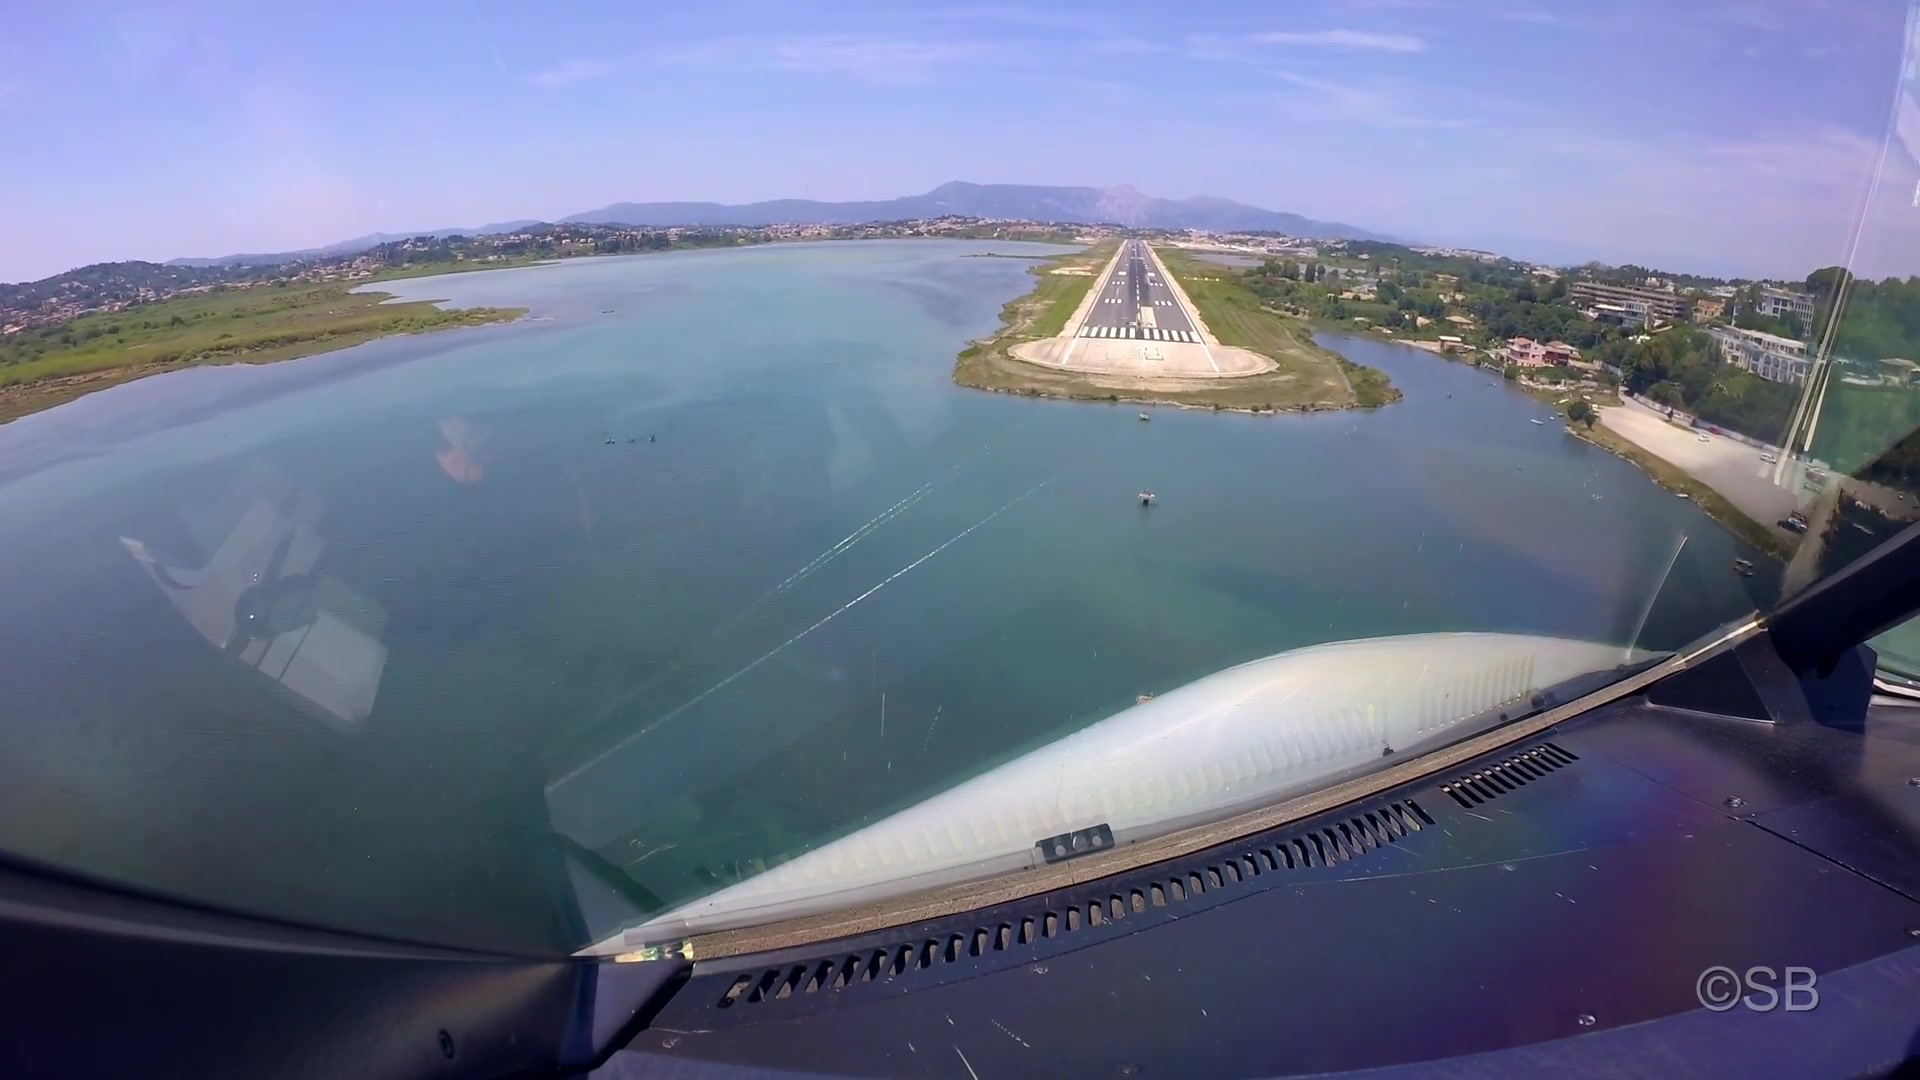entrance: (1077, 324, 1201, 344)
runway: (1076, 239, 1207, 347)
